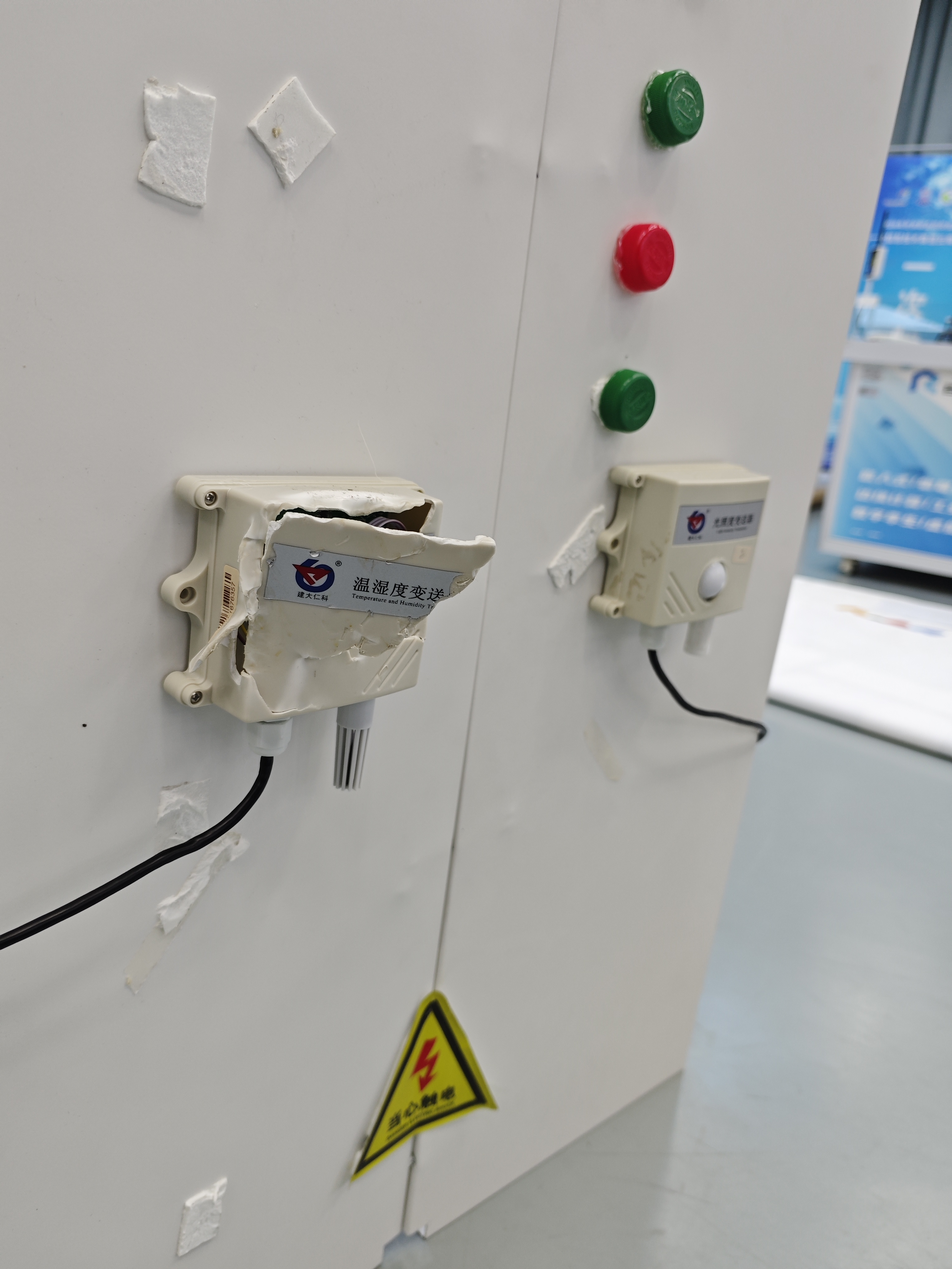red_warning: (593, 187, 698, 316)
sensor_damage: (159, 440, 512, 822)
